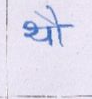au_matra: (44, 5, 67, 45)
